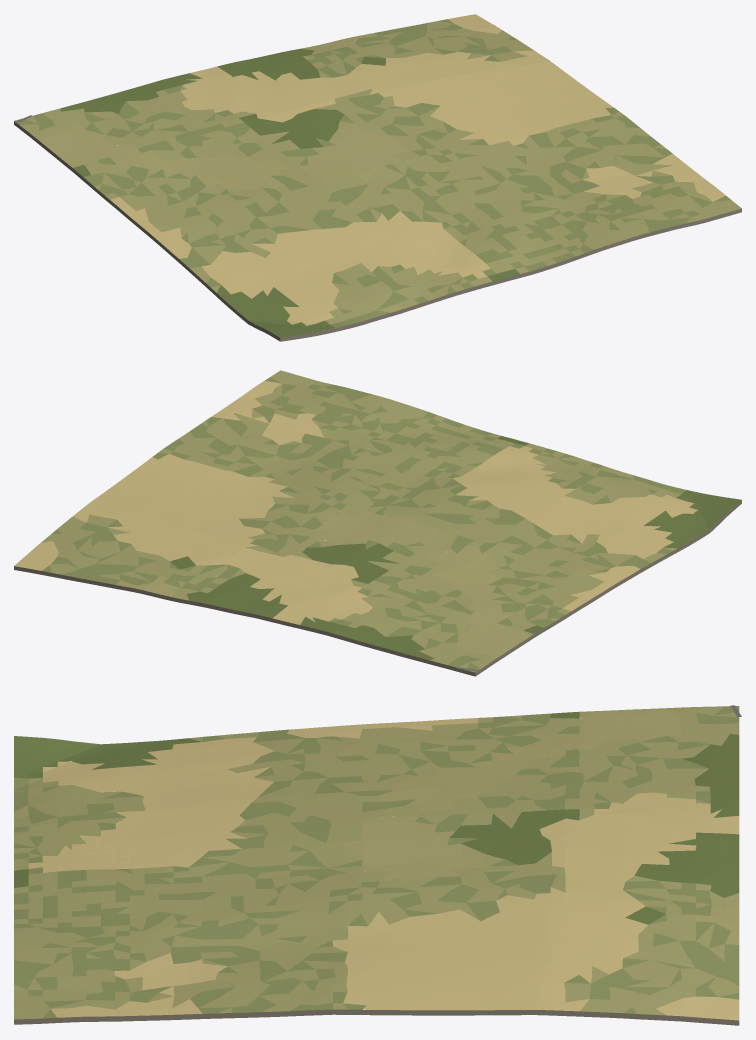
The model's file is parca_+0_-3-uzak.glb.
The picture shows the model from 3 angles, top to bottom: view 1: azimuth 30°, elevation 25°; view 2: azimuth 150°, elevation 25°; view 3: azimuth 270°, elevation 25°; orthographic projection. The views are drawn at different scales.
Parts seen in each view (by area): view 1: parca_+0_-3_arazi_uzak; view 2: parca_+0_-3_arazi_uzak; view 3: parca_+0_-3_arazi_uzak.
Part boxes in pixels (x1,y1,x2,y2): parca_+0_-3_arazi_uzak: (14, 14, 741, 341); parca_+0_-3_arazi_uzak: (14, 370, 741, 676); parca_+0_-3_arazi_uzak: (14, 706, 739, 1025).
Bounding box in the file's own units: 1002 × 80.33 × 1004.
